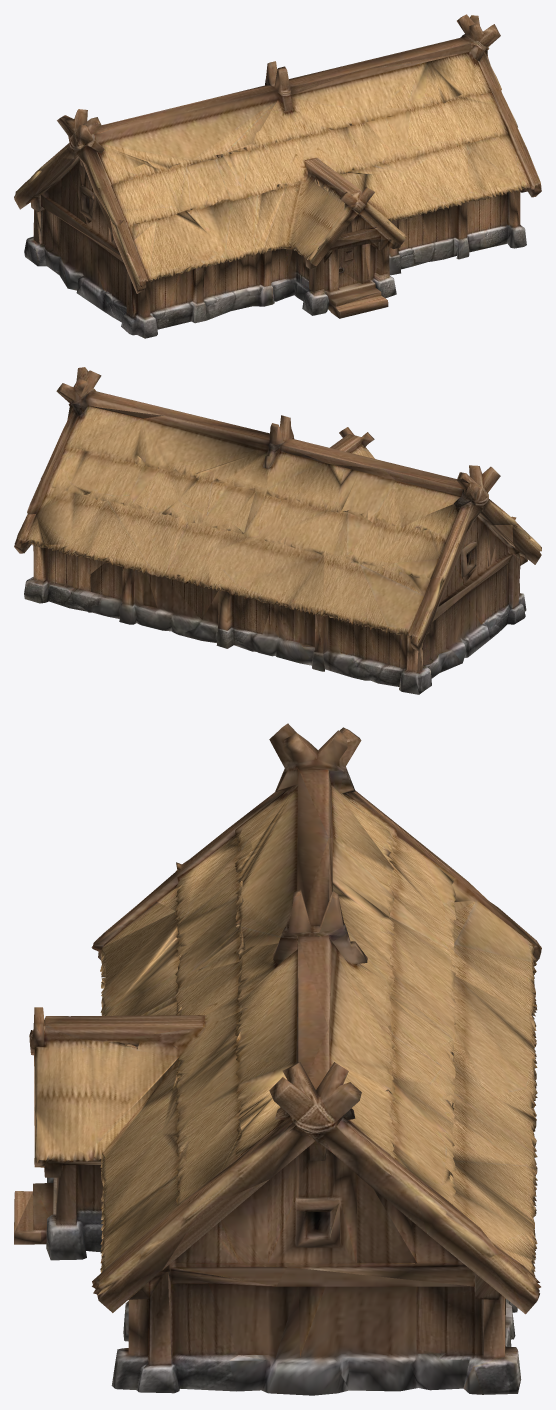
Rendered from house-longhouse.glb.
The picture shows the model from 3 angles, top to bottom: view 1: azimuth 30°, elevation 25°; view 2: azimuth 150°, elevation 25°; view 3: azimuth 270°, elevation 25°; orthographic projection. The views are drawn at different scales.
Parts seen in each view (by area): view 1: Mesh_0; view 2: Mesh_0; view 3: Mesh_0.
Part boxes in pixels (<box>): Mesh_0: <box>14,14,541,338</box>; Mesh_0: <box>14,367,541,694</box>; Mesh_0: <box>14,723,541,1395</box>.
Size of the model in its own units: 9.43 by 4 by 5.79.
Materials: 1 (1 with a texture image).
